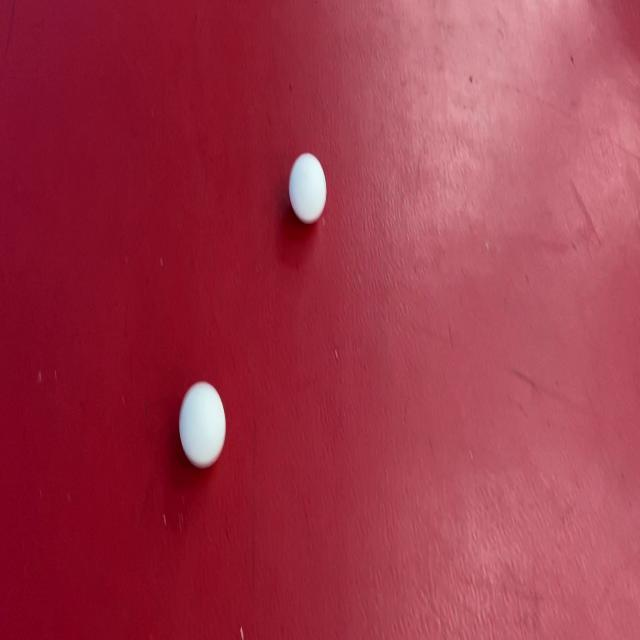ping-pong-ball: (177, 378, 230, 468), (287, 148, 329, 230)
